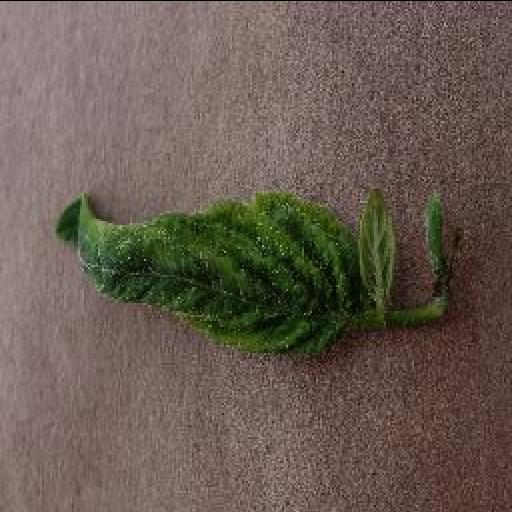disease_tomato: (54, 194, 356, 360)
